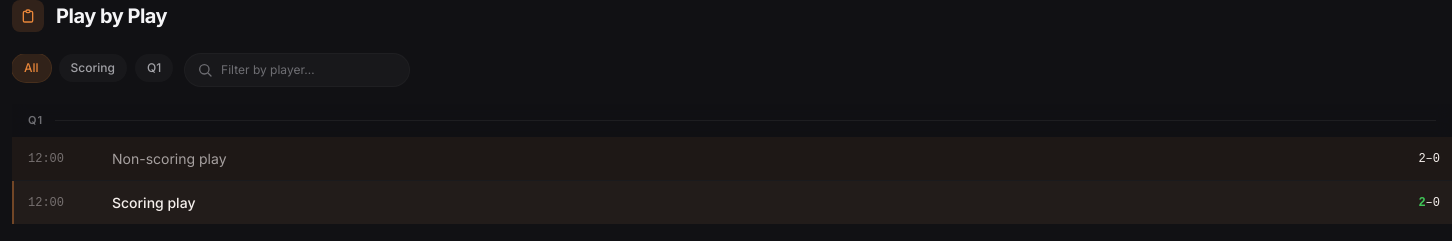
Scenario: PlayByPlay › Loaded state — NBA › filters to scoring plays only when Scoring pill is clicked
Click the button "Scoring": [93, 68] box top-left (59, 54), bottom-right (127, 82)
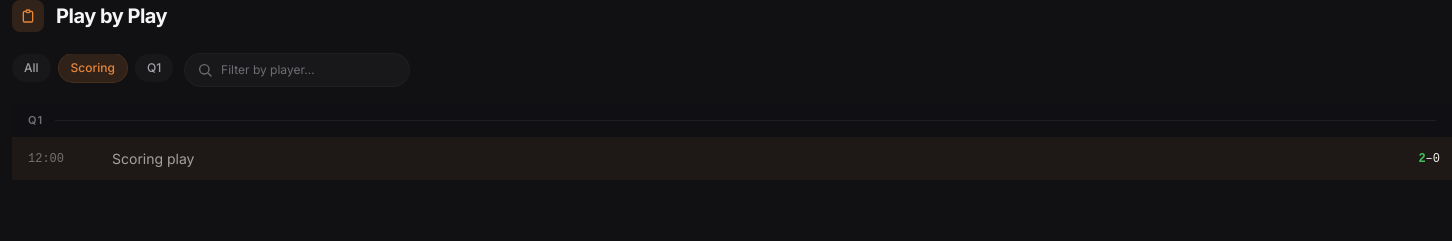
Check: the text "Scoring play" is shown, box top-left (112, 148), bottom-right (194, 168)
Check: the text "Non-scoring play" is gone
